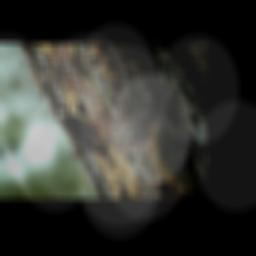Woodpecker: (47, 93, 121, 174)
